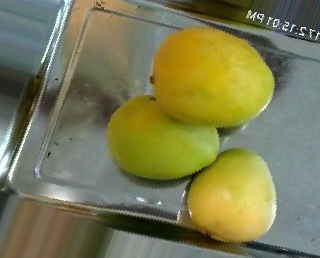Mango: (149, 22, 276, 128), (98, 93, 227, 182), (184, 142, 282, 246)
